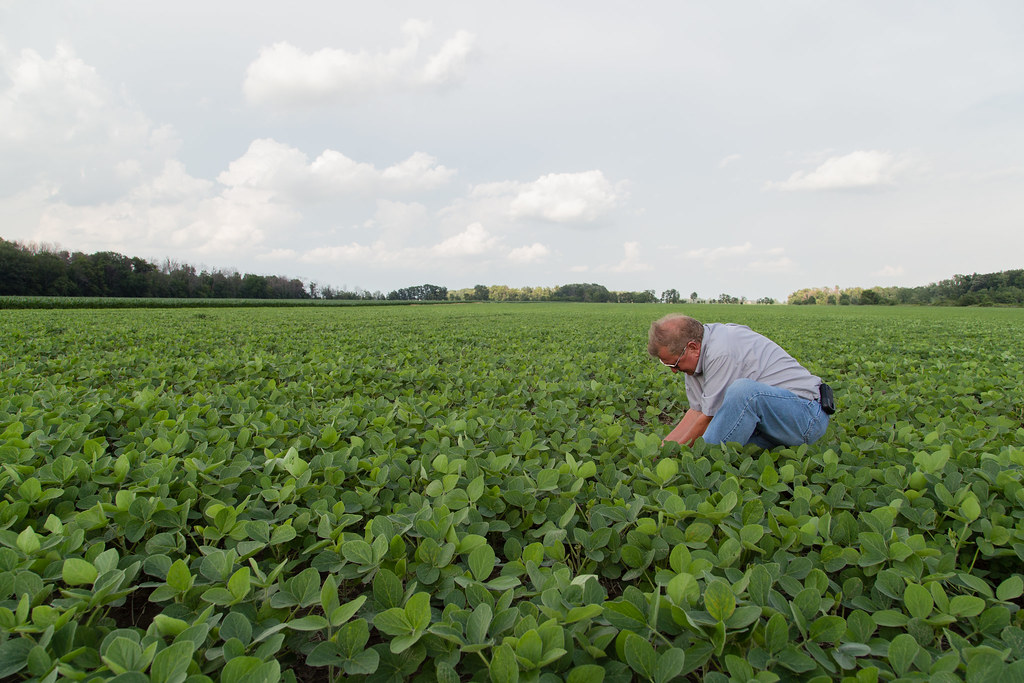soyabean: (5, 395, 571, 679), (593, 453, 1018, 682)
